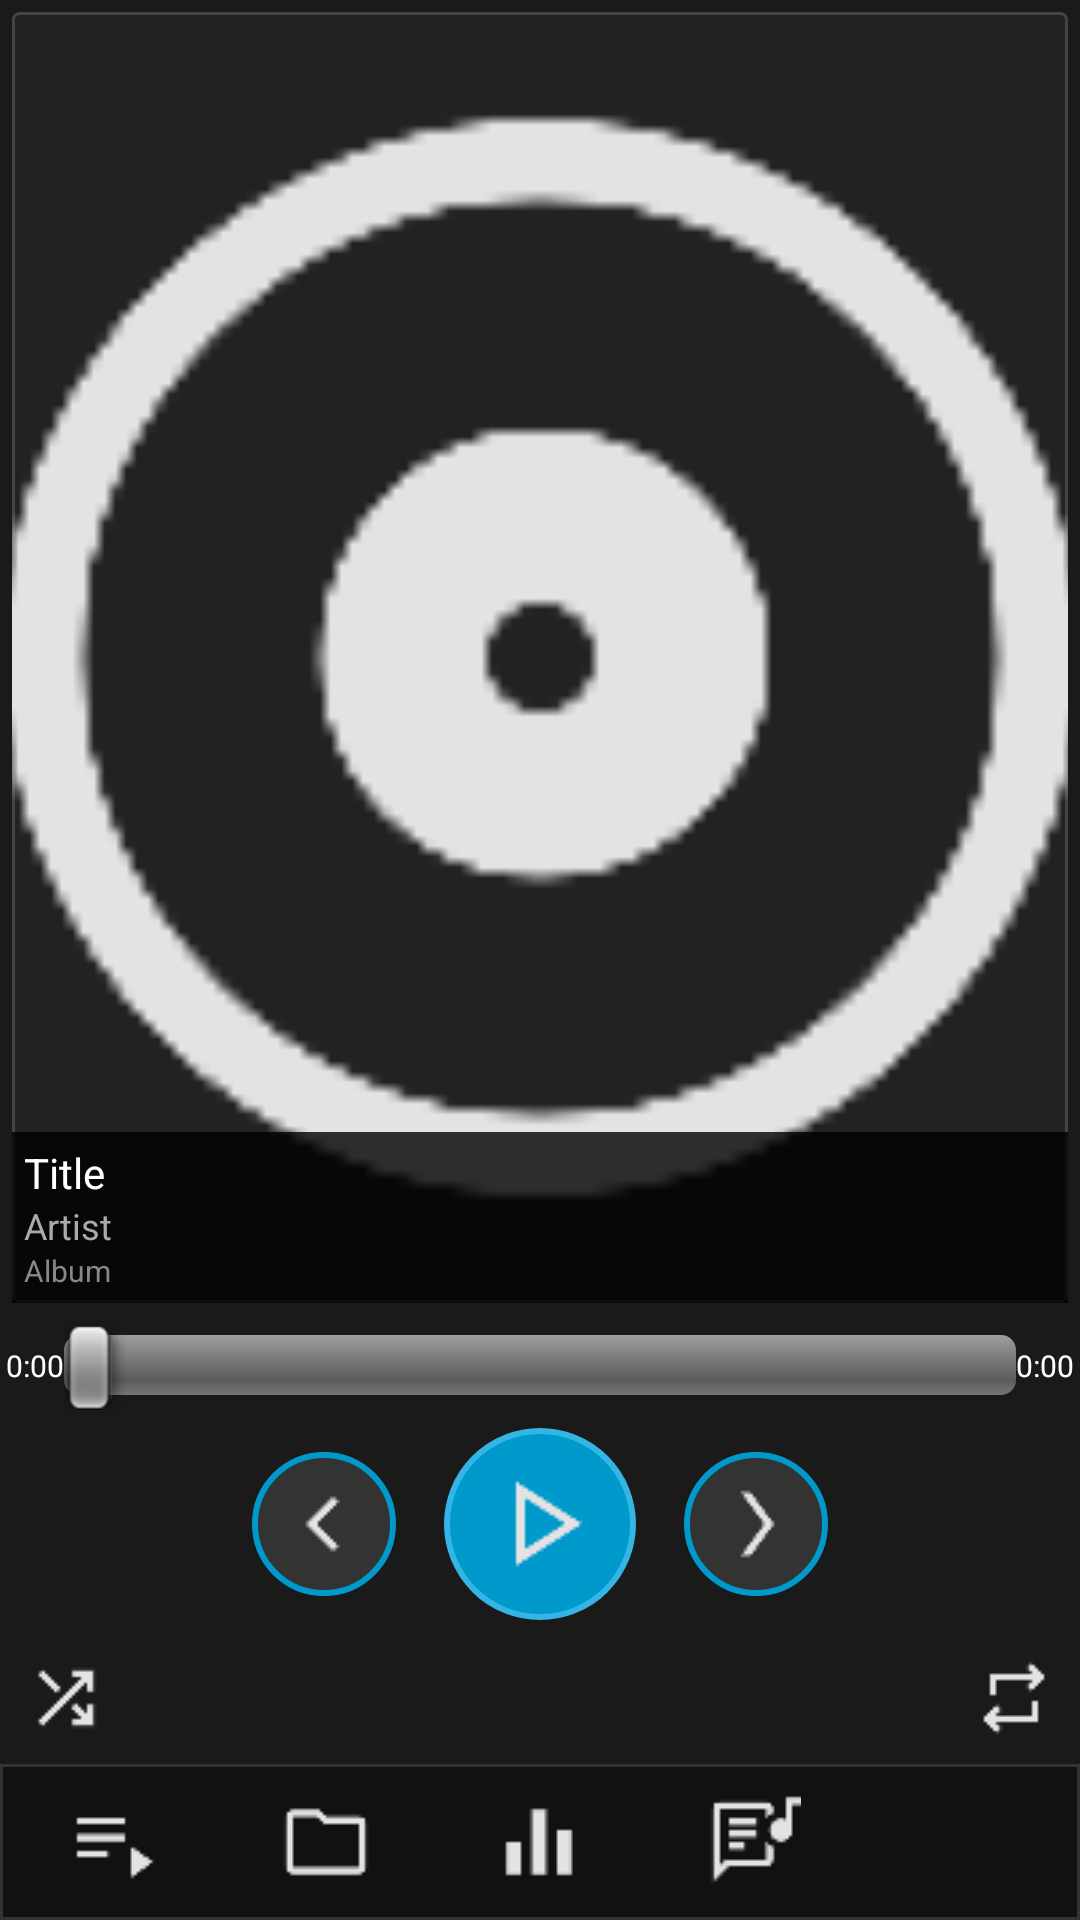

Named icons in this screenshot (1080×1920) and their bounding boxes, (left=x1, top=y1, right=x2, bottom=y2):
equalizer: (left=505, top=1808, right=573, bottom=1876)
folder: (left=285, top=1808, right=367, bottom=1876)
lyrics: (left=712, top=1796, right=801, bottom=1882)
next: (left=684, top=1452, right=828, bottom=1596)
play: (left=444, top=1428, right=636, bottom=1620)
playlist: (left=76, top=1817, right=153, bottom=1879)
prev: (left=252, top=1452, right=396, bottom=1596)
repeat: (left=983, top=1662, right=1045, bottom=1734)
shuffle: (left=38, top=1669, right=95, bottom=1727)
